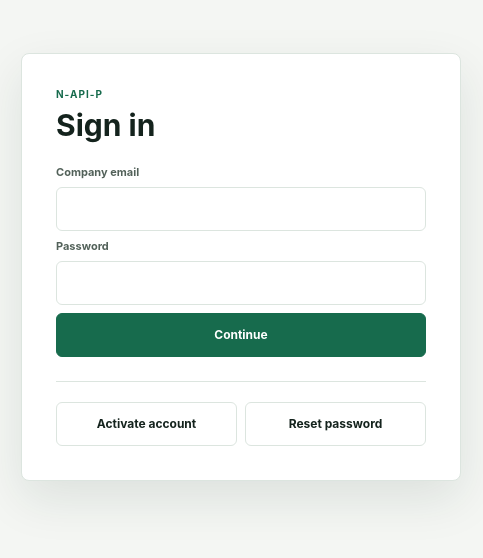
Test: explains when the sign-in service is unavailable
This screenshot has width=483, height=558.
expect the heading "Sign in" is shown: met, box [56, 107, 155, 143]
In the field labelled "Company email": (241,209) [56, 187, 426, 231], type "employee@example.internal"
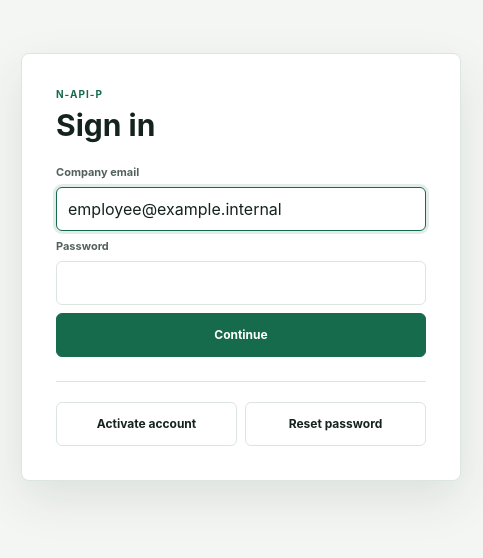
In the password field labelled "Password": (241,283) [56, 261, 426, 305], type "synthetic-password"
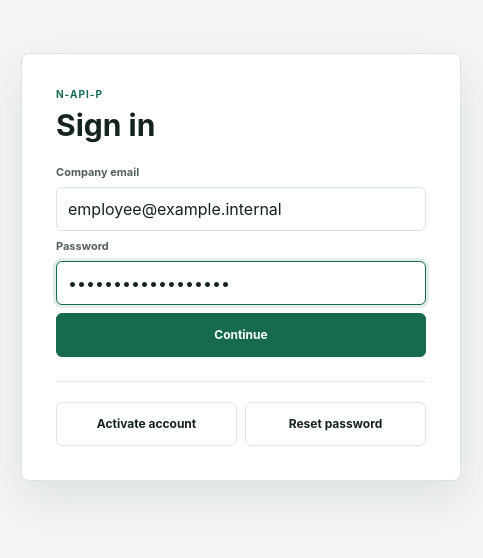
Click the button "Continue": (241,335) [56, 313, 426, 357]
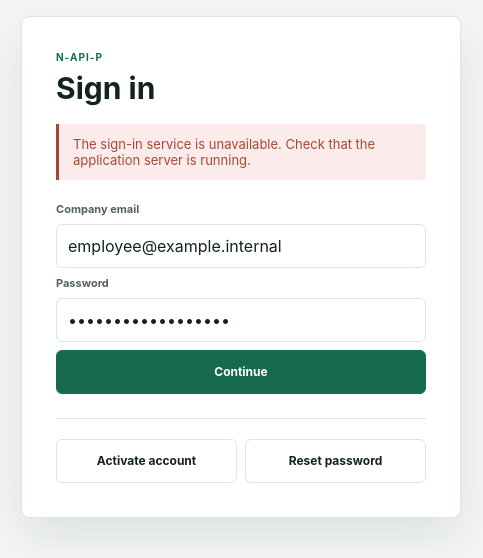
expect the message shows "The sign-in service is unavailable. Check that the application server is running.": met, box [73, 136, 375, 168]
